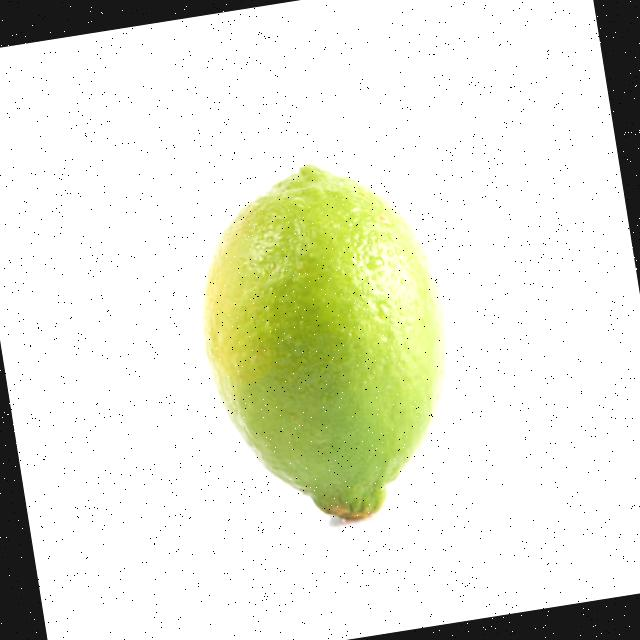Unripe: (176, 142, 473, 540)
